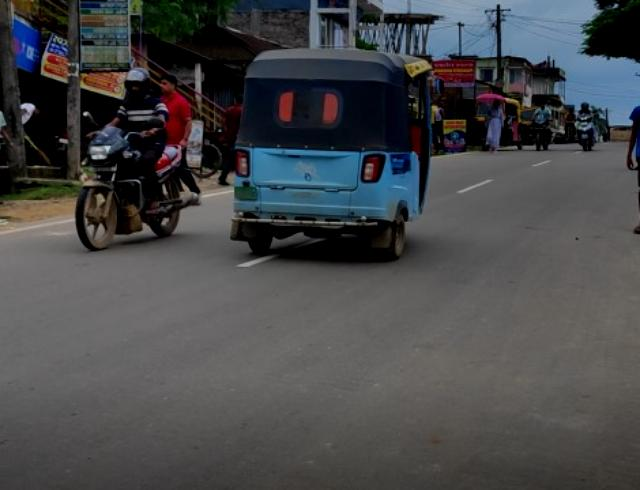licensePlate: (75, 164, 118, 174)
motorcycle: (69, 62, 204, 255), (571, 99, 603, 157), (527, 100, 555, 157)
withHelmet: (118, 68, 154, 99), (580, 100, 590, 113)
